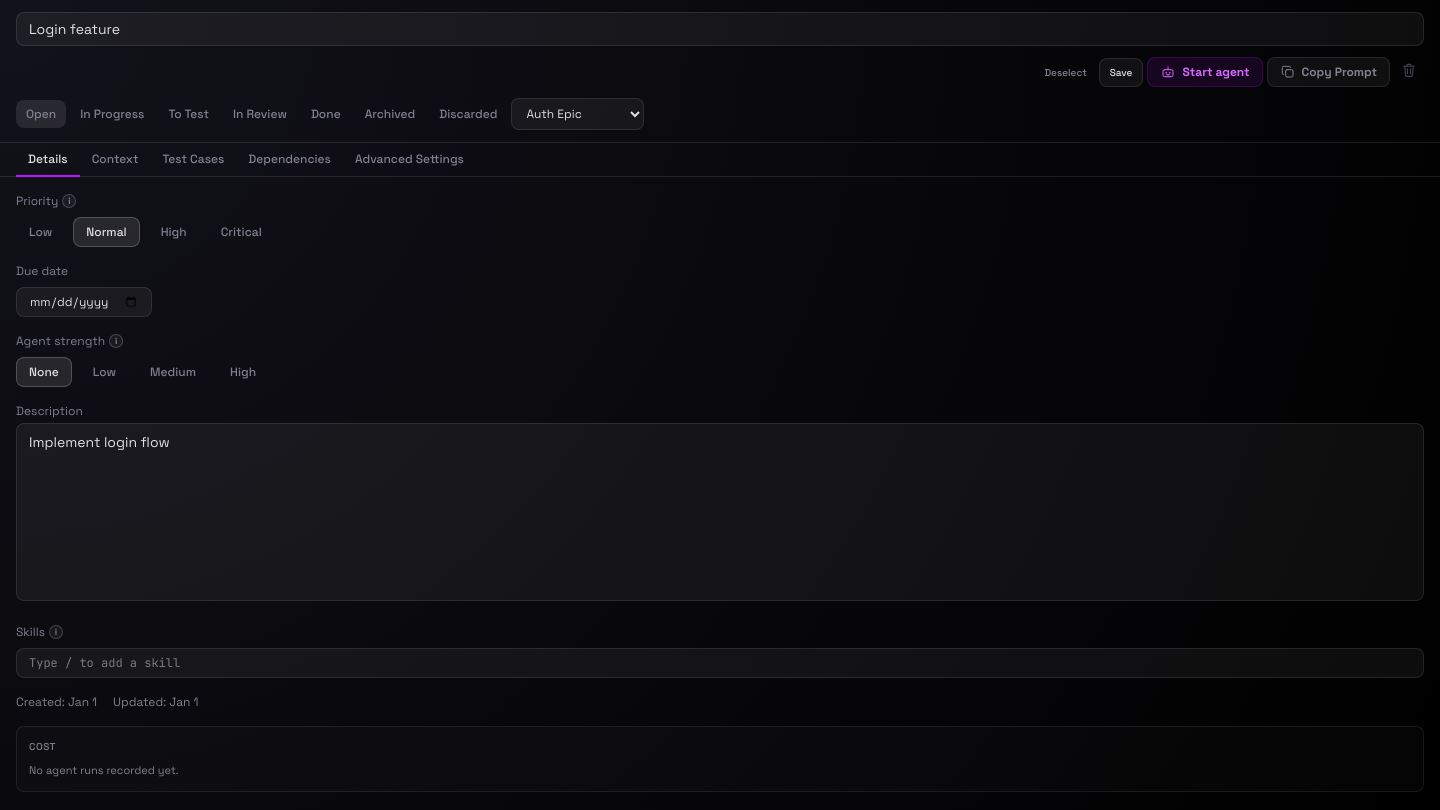
it: TicketEditPanel › switches to Test Cases tab
Click the tab "Test Cases" at (193, 160), box [150,143,236,177]
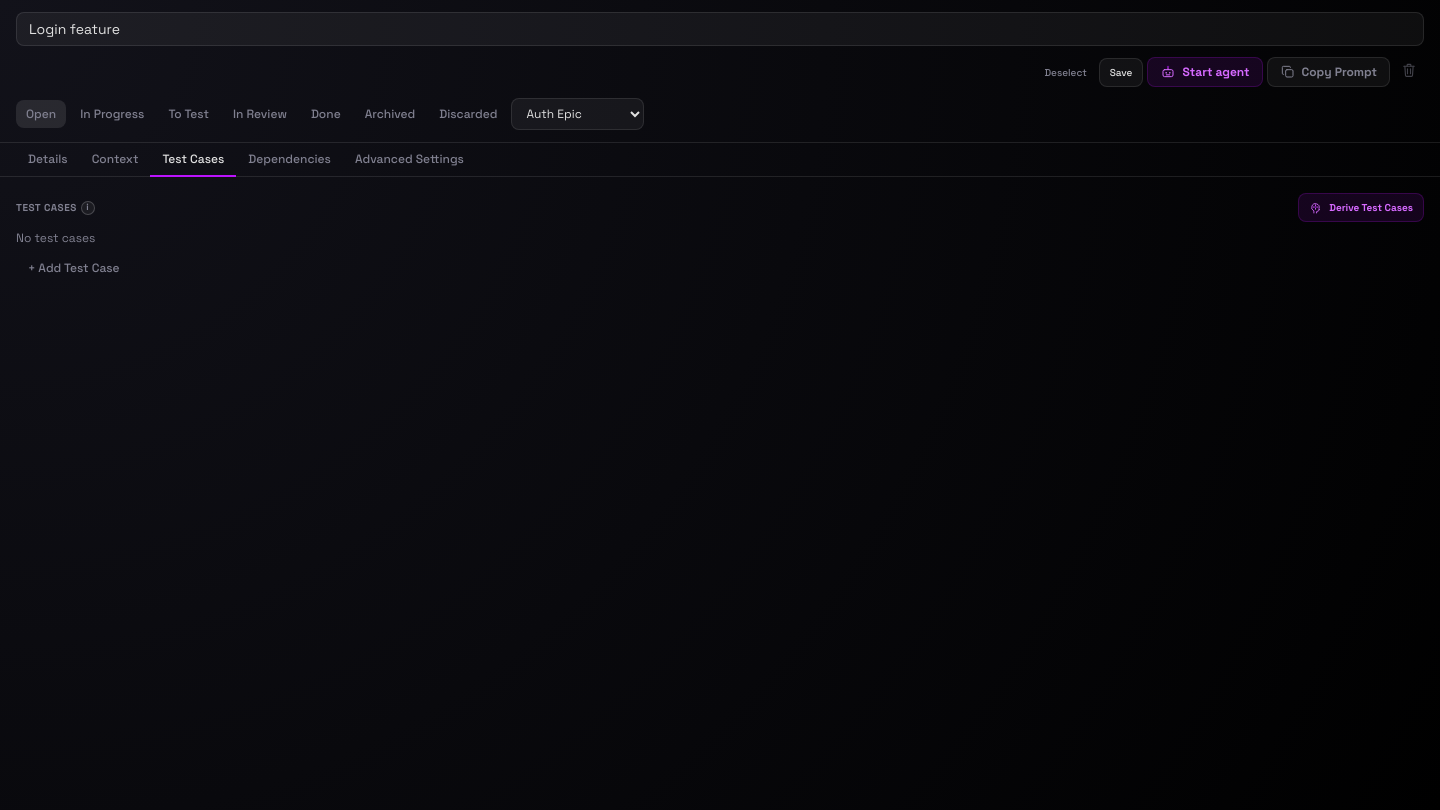
Result: the text "No test cases" is shown at [16,230,96,246]
